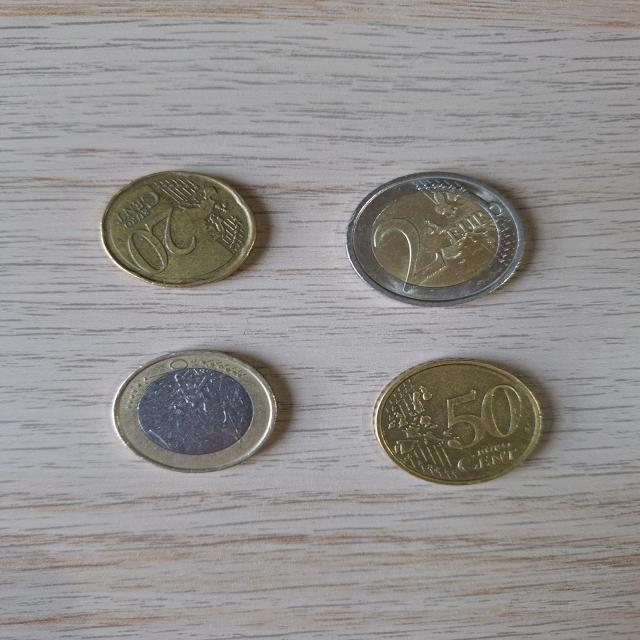1e: (112, 350, 281, 472)
20c: (100, 168, 260, 290)
2e: (348, 172, 531, 304)
50c: (372, 356, 548, 484)
